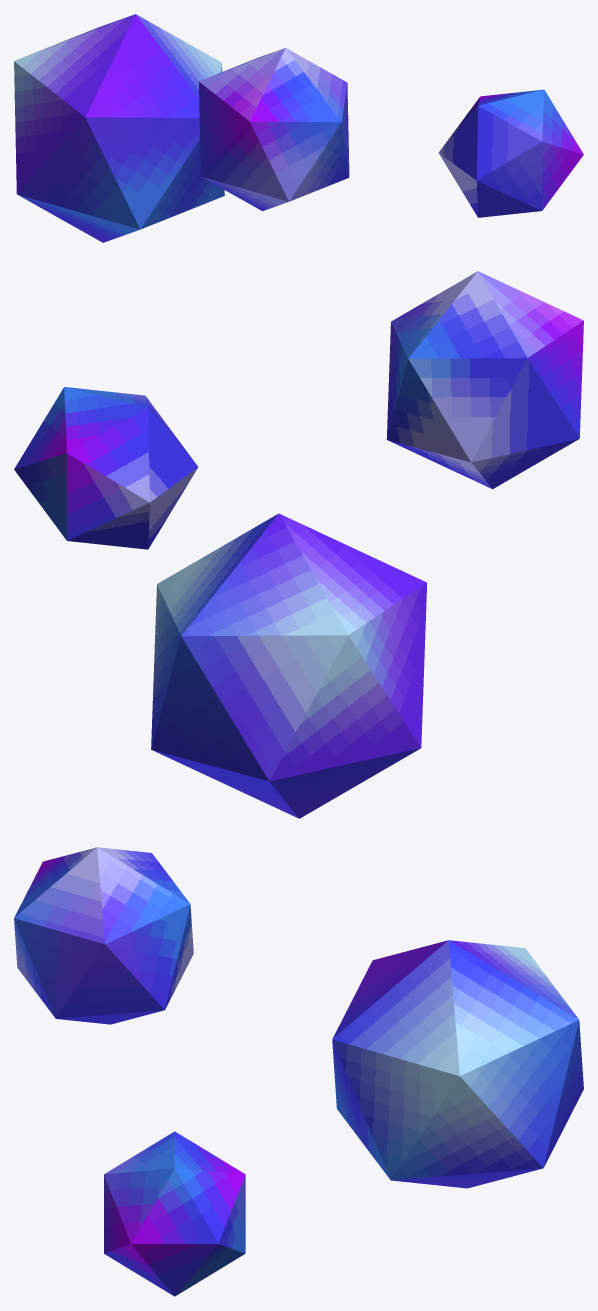
The model's file is souls_1.gltf.
3 views of the same model, one above another, from view 1: azimuth 30°, elevation 25°; view 2: azimuth 150°, elevation 25°; view 3: azimuth 270°, elevation 25° (orthographic). The views are drawn at different scales.
Parts seen in each view (by area): view 1: icosphere; view 2: icosphere; view 3: icosphere.
Part boxes in pixels (x1,y1,x2,y2): icosphere: (14, 14, 583, 242); icosphere: (14, 271, 583, 818); icosphere: (14, 847, 583, 1296).
Size of the model in its own units: 0.9912 by 0.6872 by 1.01.
Materials: 1 (1 with a texture image).
